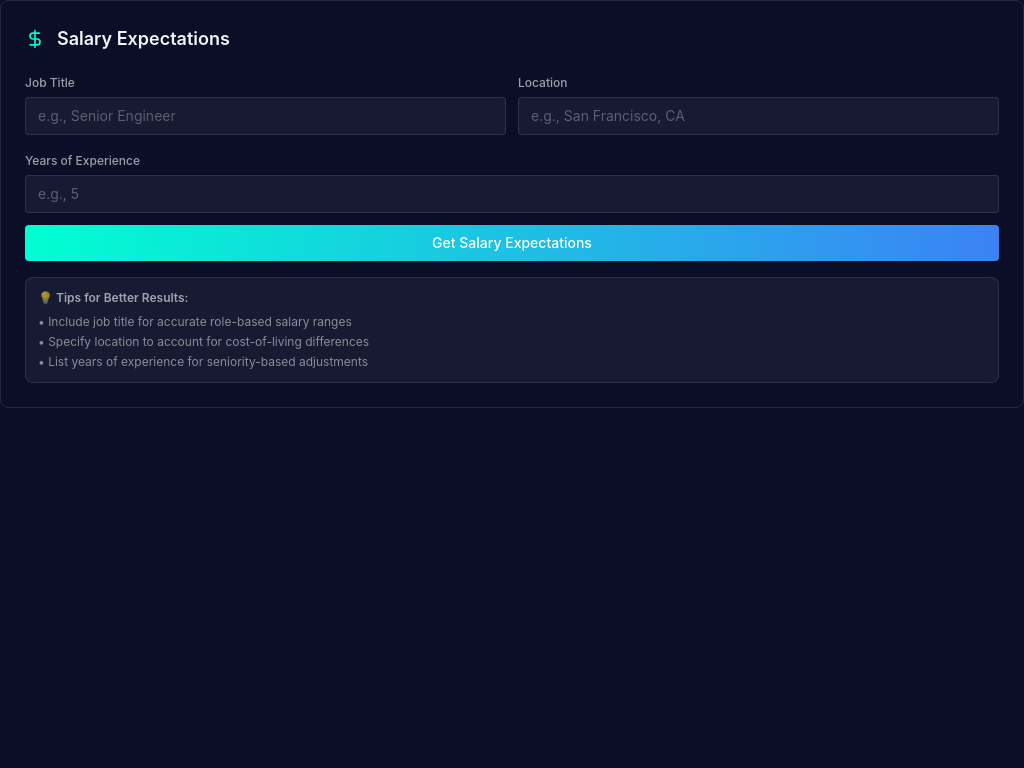
Test: SalaryExpectations Component › displays results when API succeeds
Step 1. Click the button "Get Salary Expectations" → x=512, y=243, box [25,225,999,261]
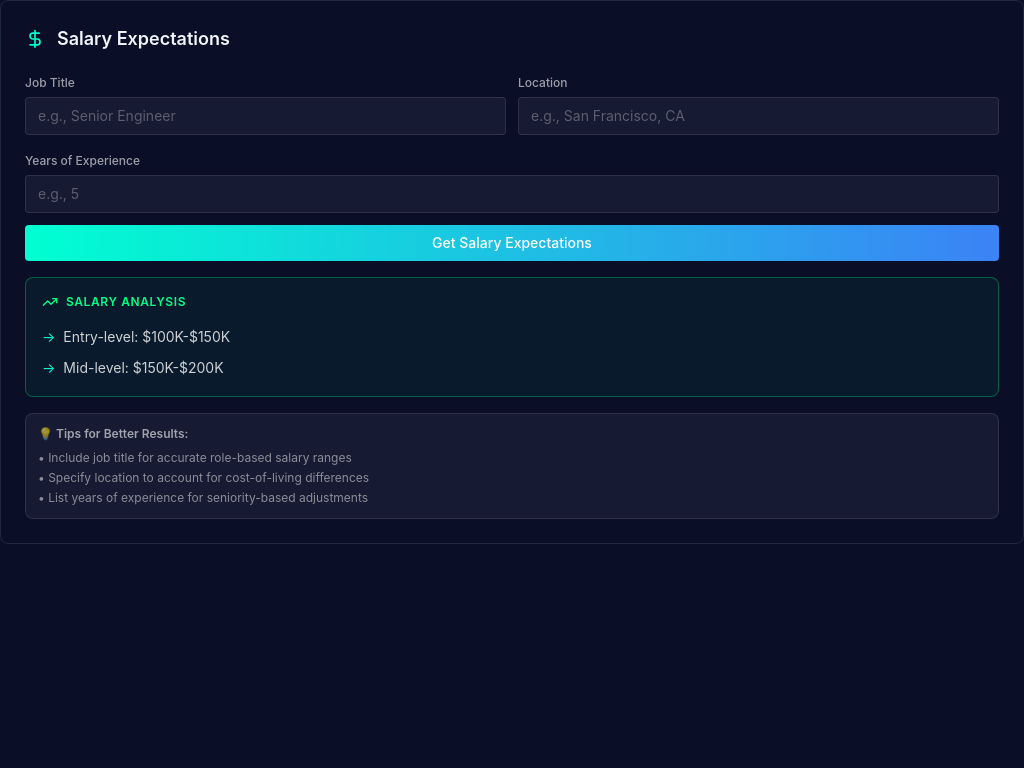
Check: the text "Entry-level: $100K-$150K" is shown, box [63,326,230,349]
